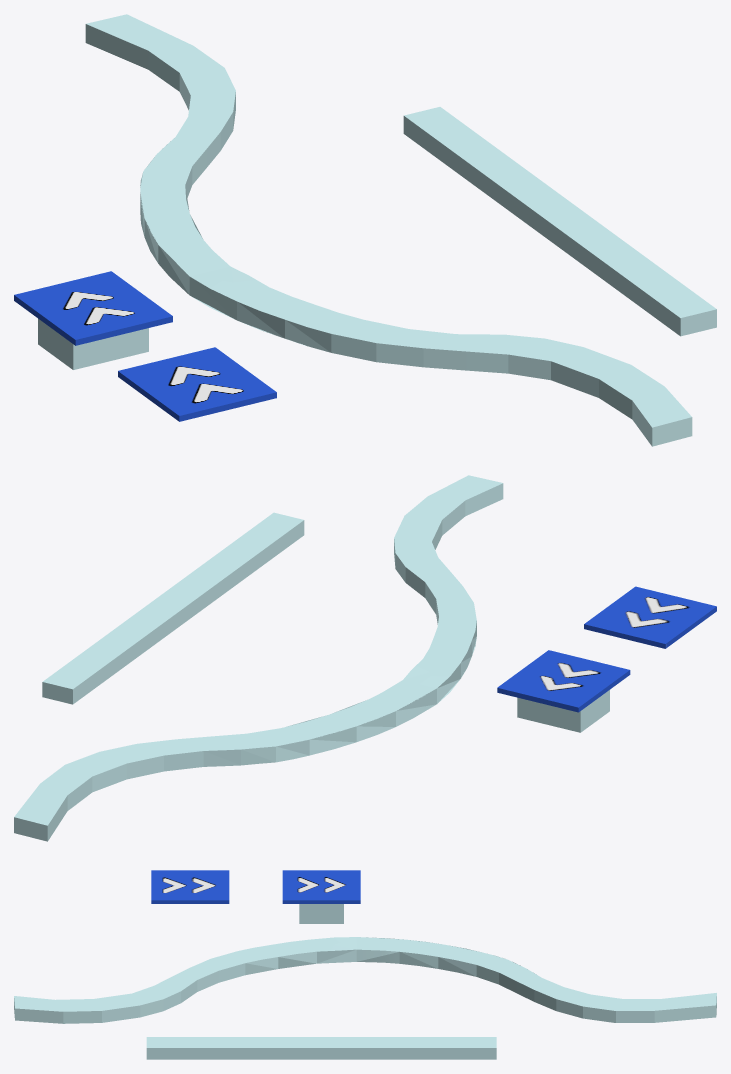
Rendered from road asset.fbx.
3 views of the same model, one above another, from view 1: azimuth 30°, elevation 25°; view 2: azimuth 150°, elevation 25°; view 3: azimuth 270°, elevation 25° (orthographic). The views are drawn at different scales.
Visible parts, largest first — view 1: road1_4, pCube23, pCube27, pCube26; view 2: road1_4, pCube23, pCube27, pCube26; view 3: road1_4, pCube23, pCube27, pCube26.
Boxes of the visible parts, box(x1,y1,x2,y2) form: road1_4: box(85, 14, 692, 446); pCube23: box(403, 107, 716, 336); pCube27: box(14, 271, 172, 369); pCube26: box(118, 347, 276, 421); road1_4: box(14, 475, 503, 841); pCube23: box(42, 512, 304, 704); pCube27: box(497, 650, 630, 732); pCube26: box(584, 586, 716, 648); road1_4: box(14, 937, 716, 1023); pCube23: box(146, 1037, 496, 1059); pCube27: box(282, 870, 360, 923); pCube26: box(151, 870, 229, 903).
Size of the model in its own units: 824 by 62.67 by 1486.
